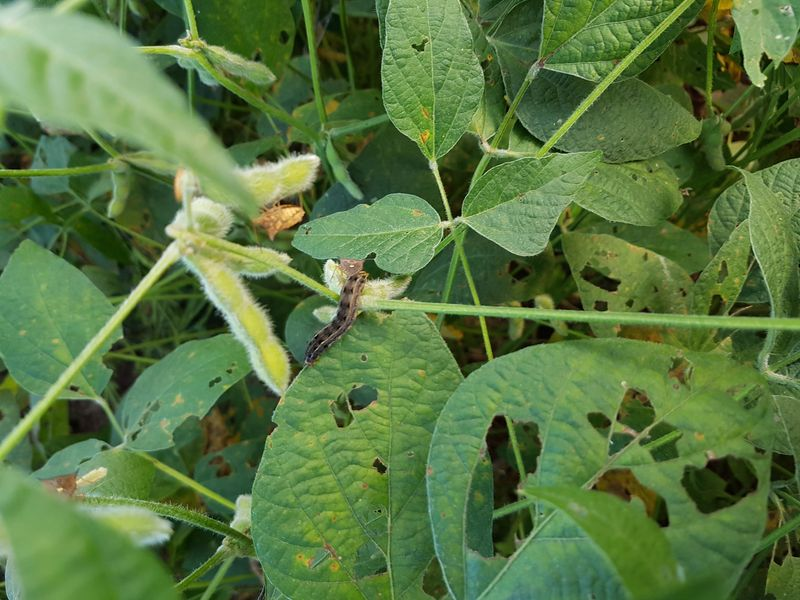Euschistus_heros_adulto: (245, 187, 316, 250), (29, 460, 91, 521), (325, 254, 368, 275)
Spodoptera_albula: (295, 273, 376, 369)
